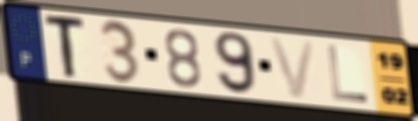3: (98, 17, 142, 87)
8: (162, 27, 203, 90)
9: (214, 30, 258, 96)
L: (324, 43, 371, 105)
T: (43, 14, 88, 80)
V: (266, 35, 319, 101)
